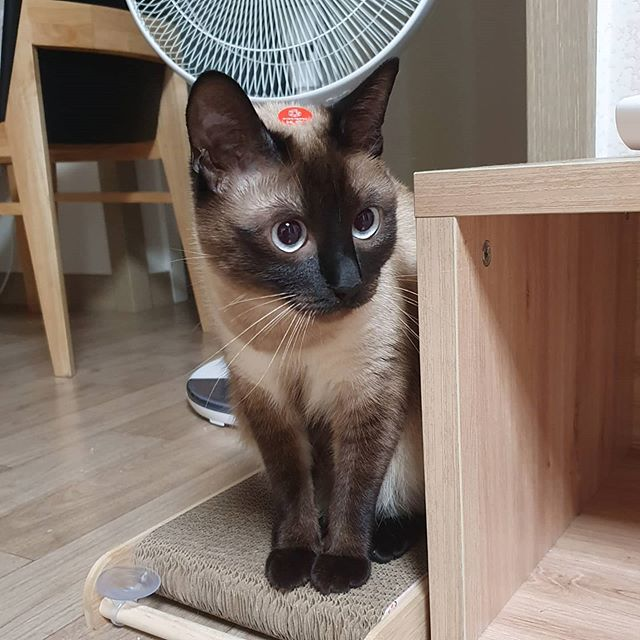cat: (180, 59, 411, 322)
